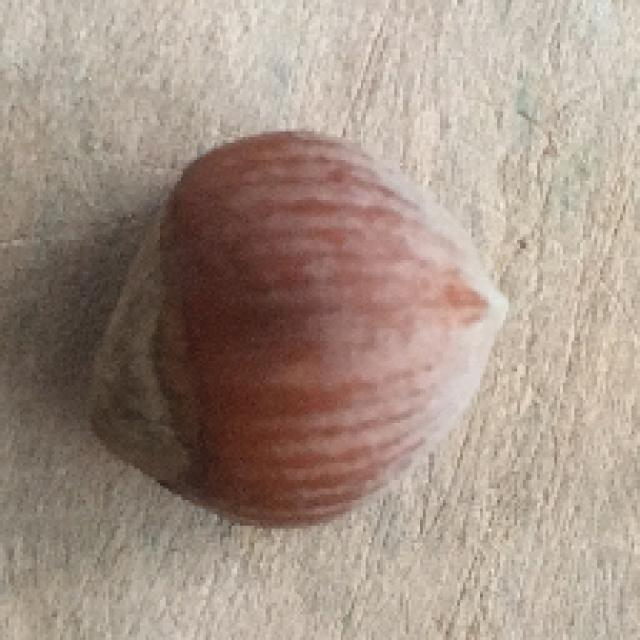qualityHazelnut: (75, 123, 505, 531)
